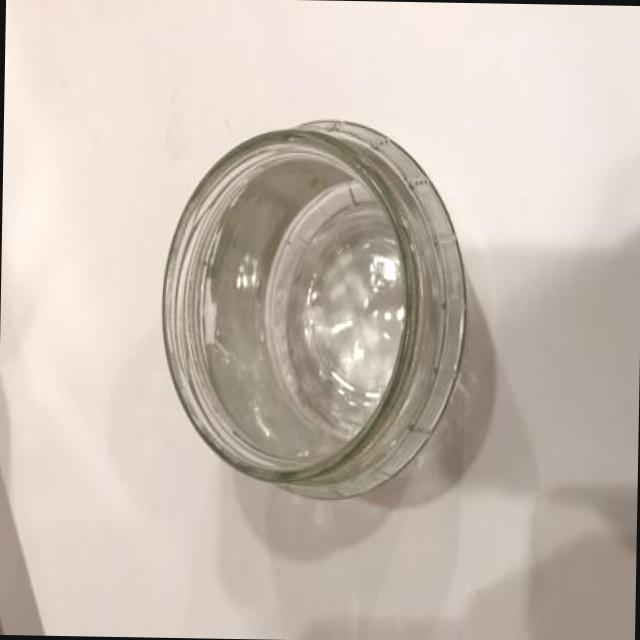chai_thuy_tinh: (163, 120, 467, 499)
